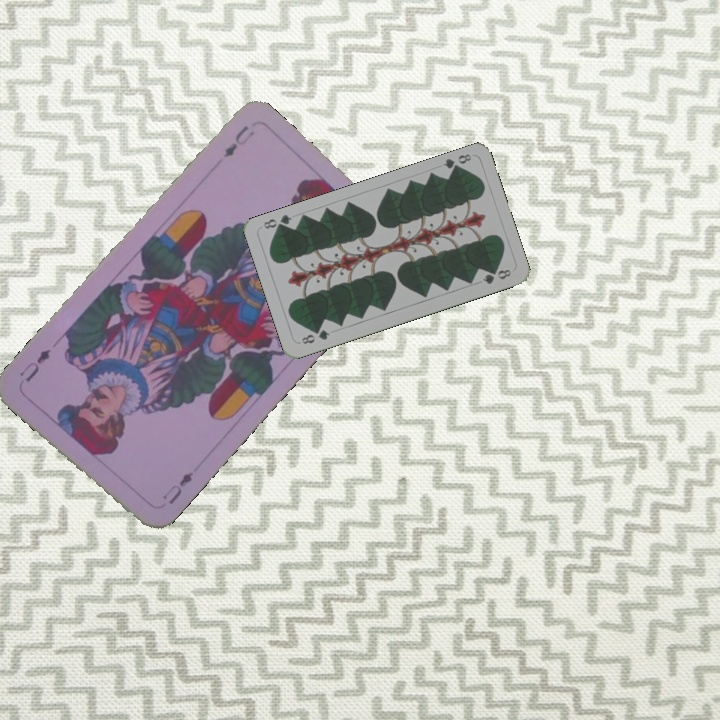EU: (219, 121, 257, 161), (159, 467, 196, 507)
G8: (439, 150, 474, 175), (297, 326, 333, 347)
